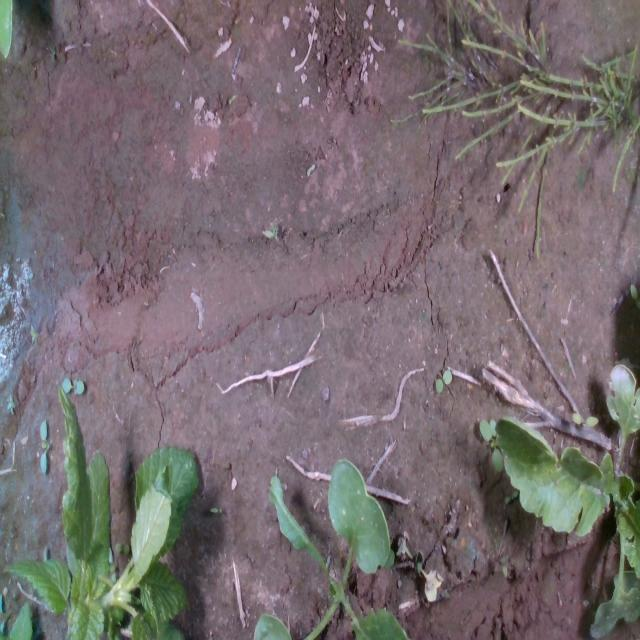weed: (38, 416, 48, 476), (434, 368, 452, 393), (571, 411, 599, 426), (7, 391, 15, 416), (210, 504, 222, 513)
